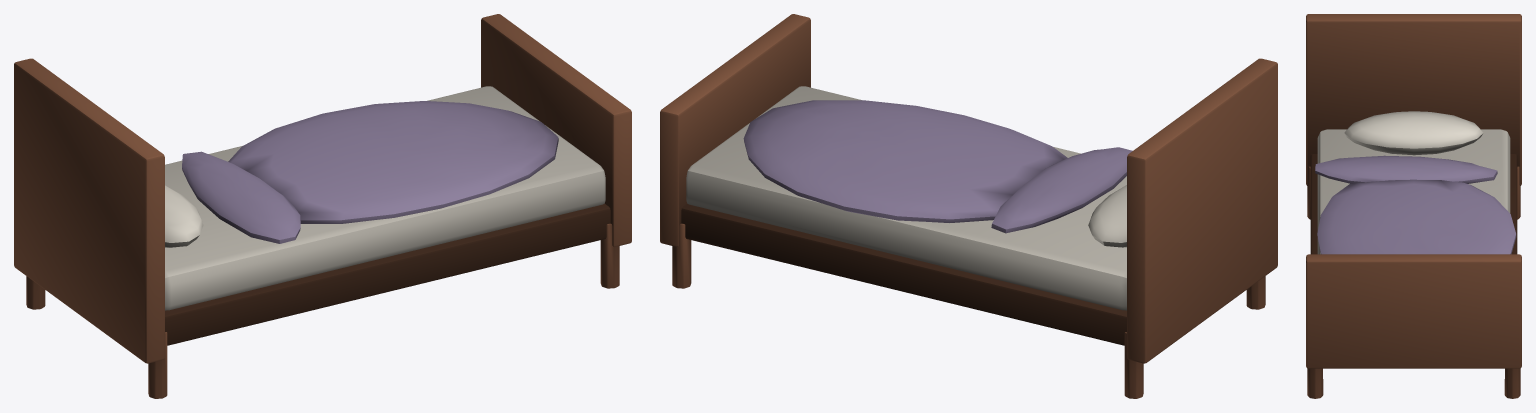
Rendered from bed.glb.
3 views of the same model, side by side, from view 1: azimuth 30°, elevation 25°; view 2: azimuth 150°, elevation 25°; view 3: azimuth 270°, elevation 25° (orthographic). The views are drawn at different scales.
Visible parts, largest first — view 1: boat_mahog, boat_blanket.001, boat_linen; view 2: boat_mahog, boat_blanket.001, boat_linen; view 3: boat_mahog, boat_blanket.001, boat_linen.
Part boxes in pixels (x1=…): boat_mahog: x1=14, y1=14, x2=631, y2=398; boat_blanket.001: x1=182, y1=101, x2=558, y2=243; boat_linen: x1=165, y1=86, x2=605, y2=310; boat_mahog: x1=660, y1=14, x2=1277, y2=398; boat_blanket.001: x1=743, y1=100, x2=1132, y2=233; boat_linen: x1=686, y1=86, x2=1126, y2=310; boat_mahog: x1=1306, y1=14, x2=1521, y2=398; boat_blanket.001: x1=1315, y1=155, x2=1516, y2=254; boat_linen: x1=1317, y1=111, x2=1510, y2=254.
Size of the model in its own units: 1.98 by 0.95 by 0.94.
